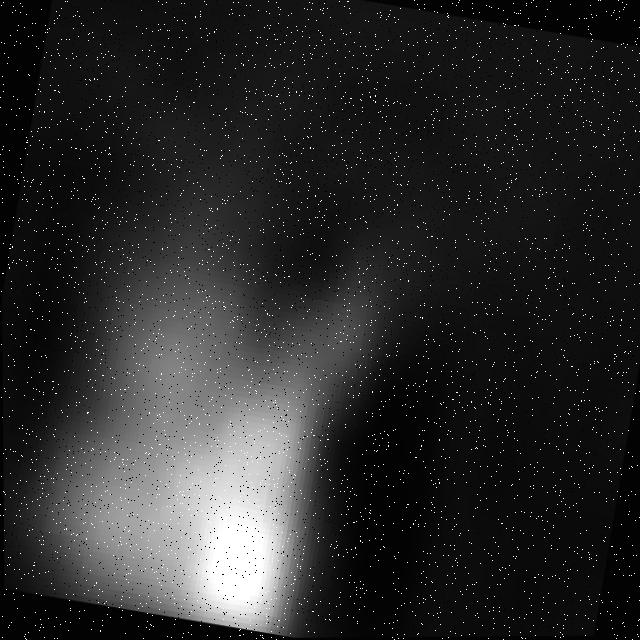person: (18, 101, 389, 640)
